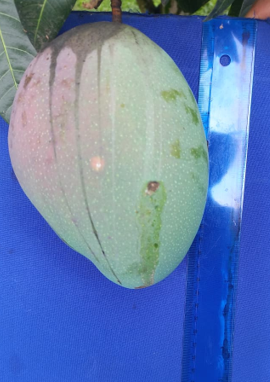Mango-Antracnosis: (8, 21, 208, 288)
Mango-area-afectada: (49, 25, 120, 284)
Mango-sano: (8, 28, 208, 288)
